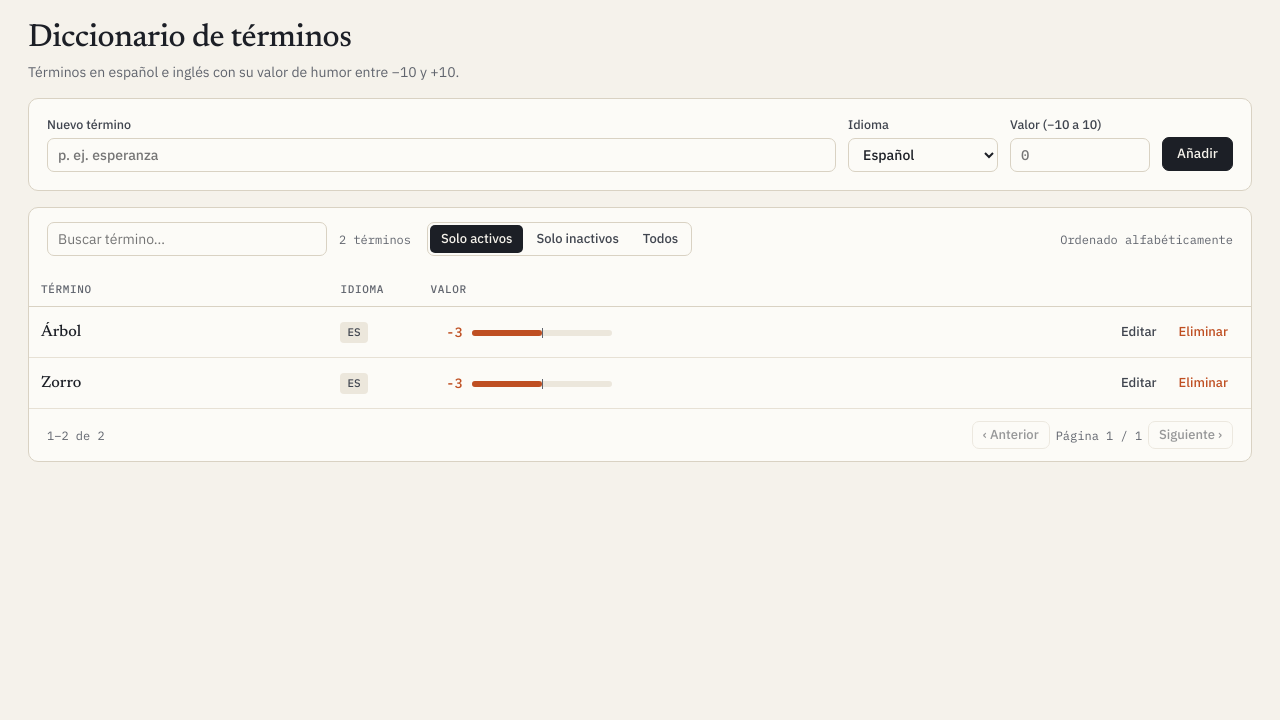
Test case: DictionaryPage › shows API errors and preserves data for failed CRUD operations
Click the button with aria-label "Eliminar Zorro": (1203, 383) top-left (1168, 369), bottom-right (1239, 397)
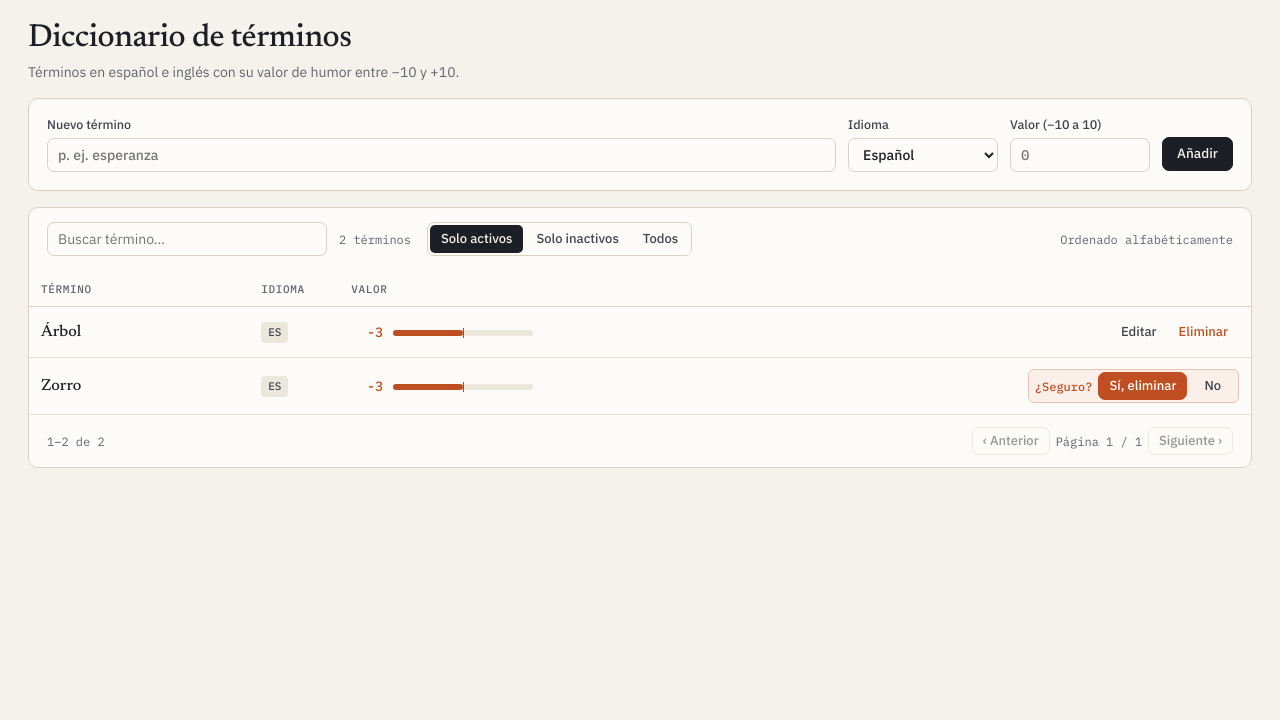
Click the button "Sí, eliminar": (1143, 386) top-left (1098, 372), bottom-right (1187, 400)
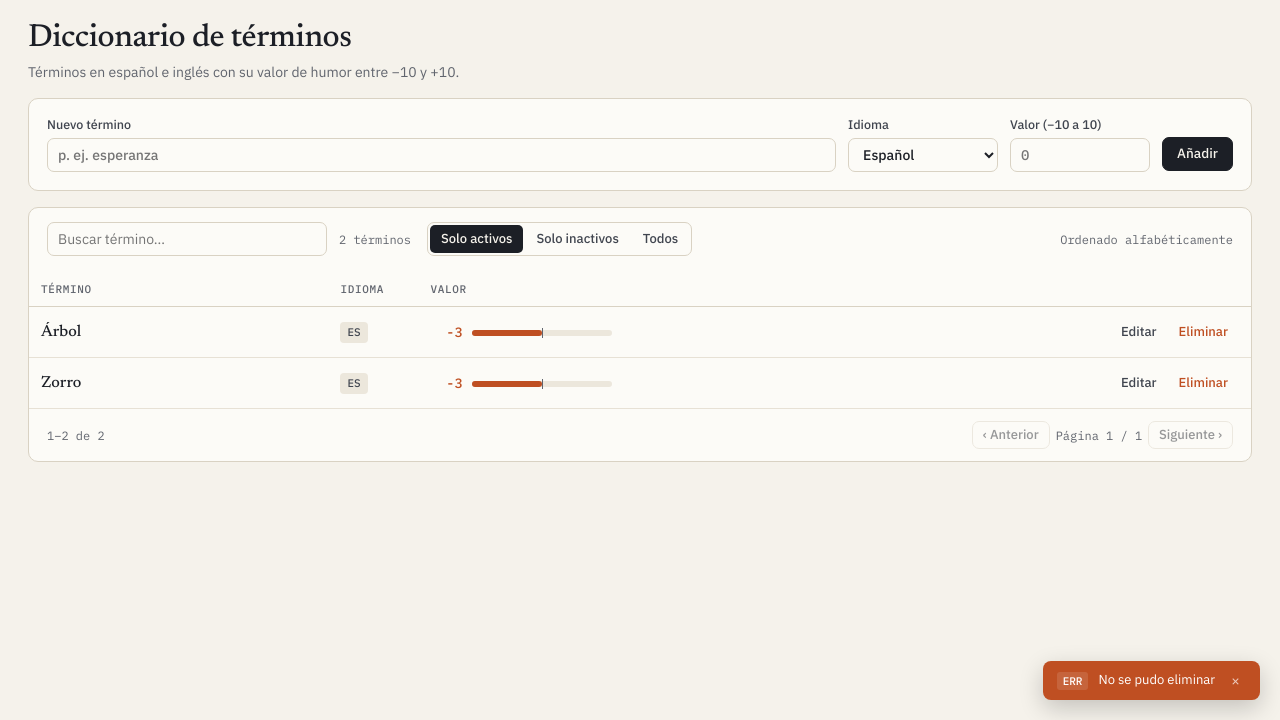
Expected: the text "No se pudo eliminar" is shown, top-left (1098, 671), bottom-right (1215, 690)
Expected: the button with aria-label "Eliminar Zorro" is shown, top-left (1168, 369), bottom-right (1239, 397)
